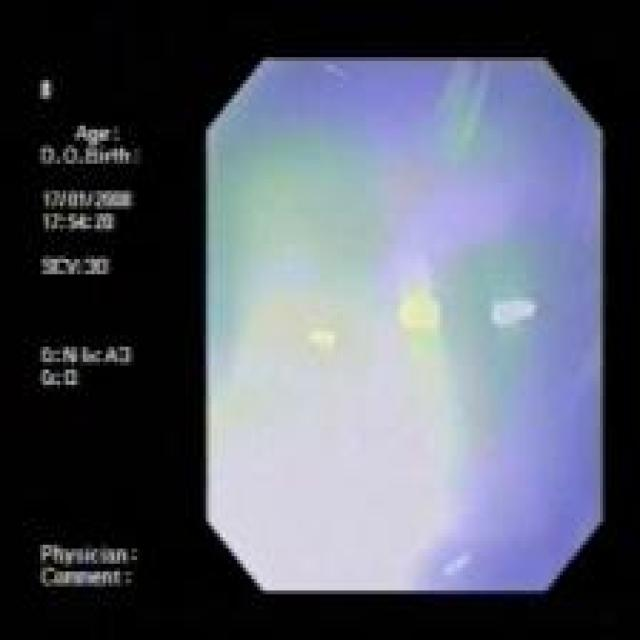color misalignment: (204, 58, 603, 592), (36, 77, 150, 597)
